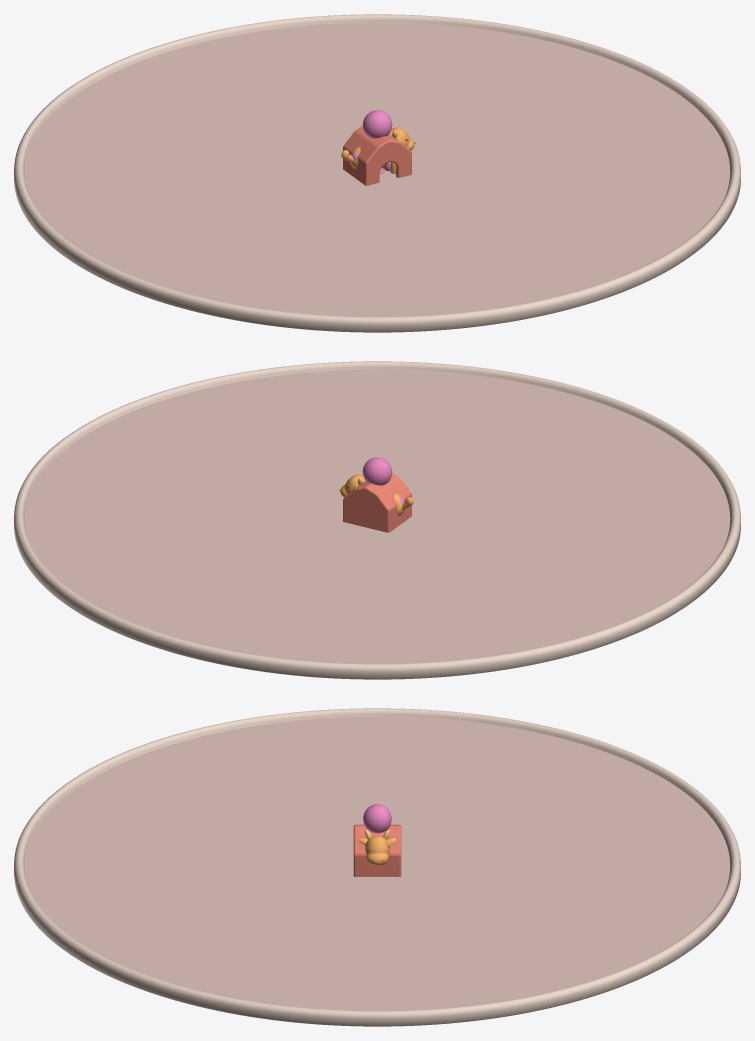
The model's file is park-toys-v57.glb.
3 renders of one model, top to bottom at view 1: azimuth 30°, elevation 25°; view 2: azimuth 150°, elevation 25°; view 3: azimuth 270°, elevation 25°, orthographic.
Parts seen in each view (by area): view 1: sculpture-plinth-warm-blush__floor-and-rounded-rim, kennel-coral__hollow-shell, toy-figure-pink__soft-volume, toy-bull-orange__body; view 2: sculpture-plinth-warm-blush__floor-and-rounded-rim, kennel-coral__hollow-shell, toy-figure-pink__soft-volume; view 3: sculpture-plinth-warm-blush__floor-and-rounded-rim, kennel-coral__hollow-shell, toy-bull-orange__body, toy-figure-pink__soft-volume.
Part boxes in pixels (x1,y1,x2,y2): sculpture-plinth-warm-blush__floor-and-rounded-rim: (14,14,740,332); kennel-coral__hollow-shell: (343,126,411,185); toy-figure-pink__soft-volume: (351,110,392,171); toy-bull-orange__body: (341,127,414,173); sculpture-plinth-warm-blush__floor-and-rounded-rim: (14,361,740,679); kennel-coral__hollow-shell: (343,473,411,532); toy-figure-pink__soft-volume: (362,457,404,503); sculpture-plinth-warm-blush__floor-and-rounded-rim: (14,708,740,1026); kennel-coral__hollow-shell: (353,824,401,876); toy-bull-orange__body: (358,835,396,865); toy-figure-pink__soft-volume: (363,804,391,833).
Bounding box in the file's own units: 26.96 × 2.79 × 26.96.
